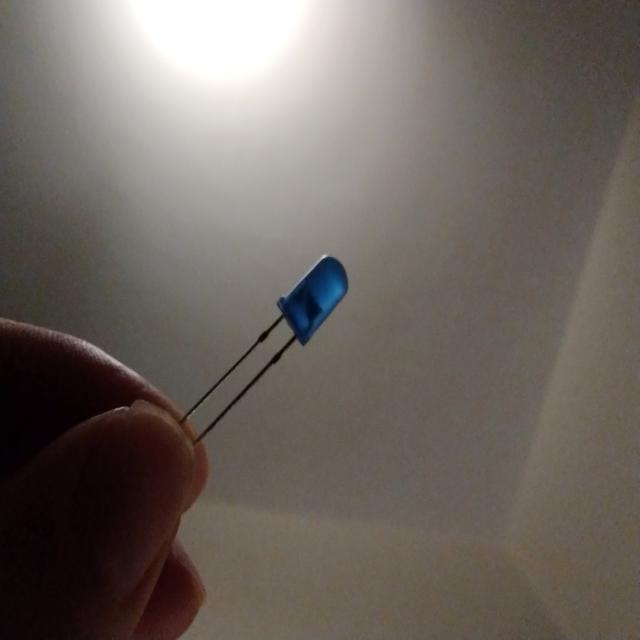blue_led: (276, 252, 349, 347)
